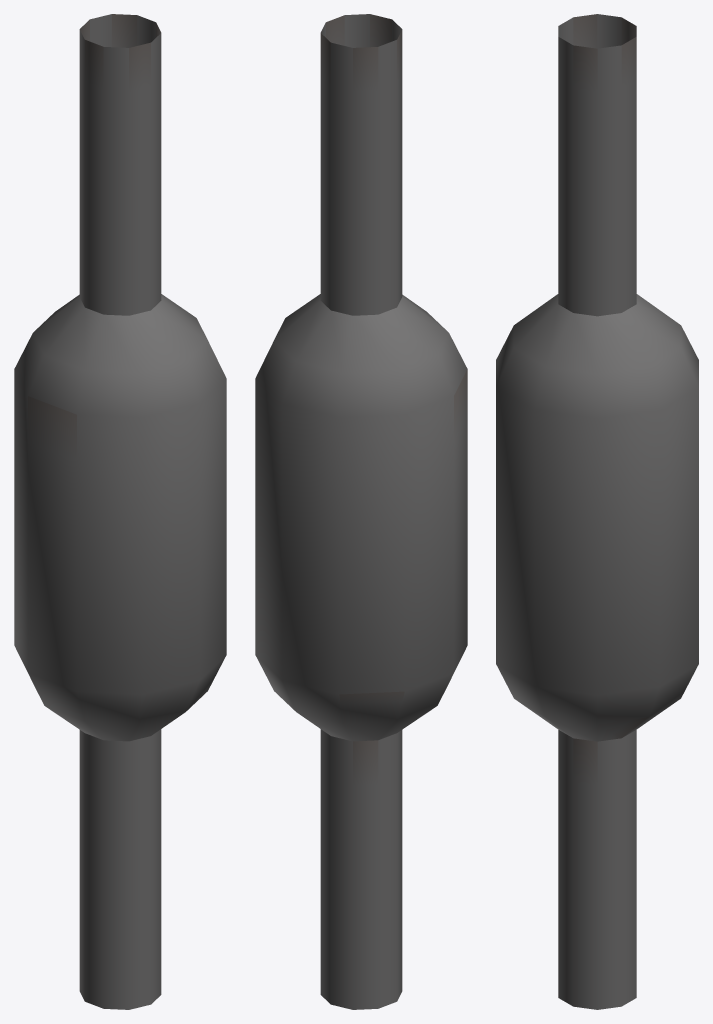
The model's file is rura3.fbx.
3 renders of one model, left to right at view 1: azimuth 30°, elevation 25°; view 2: azimuth 150°, elevation 25°; view 3: azimuth 270°, elevation 25°, orthographic.
Visible parts, largest first — view 1: BézierCurve.005; view 2: BézierCurve.005; view 3: BézierCurve.005.
Boxes of the visible parts, x1,y1,x2,y2 form: BézierCurve.005: (14,14,226,1009); BézierCurve.005: (255,14,467,1009); BézierCurve.005: (496,14,698,1009).
Bounding box in the file's own units: 54.29 × 57.09 × 284.
